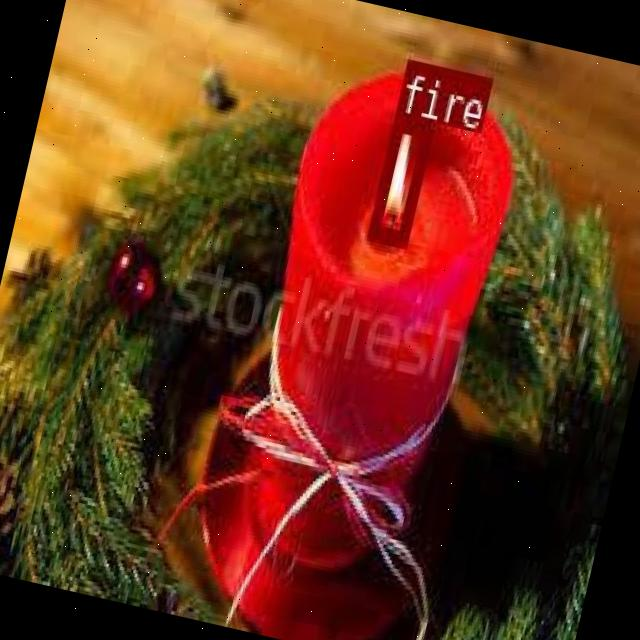fire: (364, 113, 432, 244)
